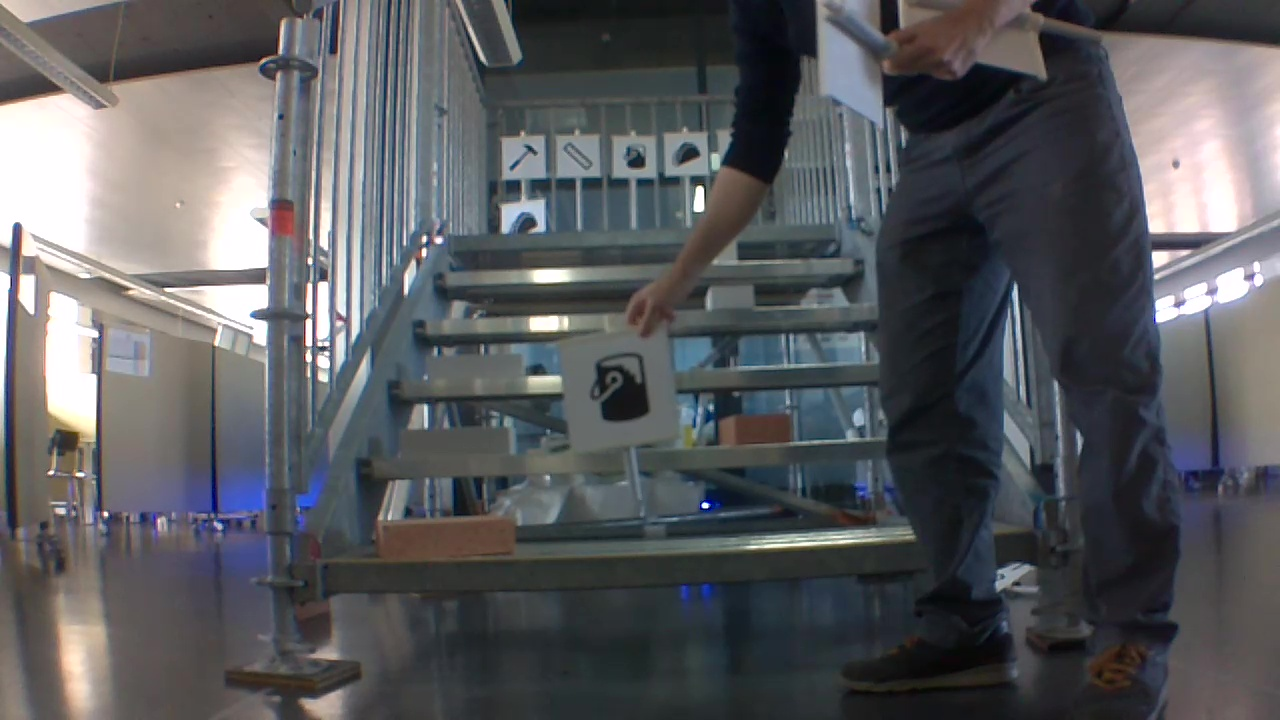brick: (381, 513, 515, 558), (399, 426, 520, 457), (424, 355, 527, 387), (719, 417, 789, 445), (703, 282, 757, 314)
bucket: (590, 347, 650, 430), (621, 141, 649, 173)
edge: (311, 533, 914, 601)
hammer: (505, 141, 534, 174)
ruler: (560, 140, 596, 175)
taco: (505, 208, 539, 237), (666, 141, 702, 168)
